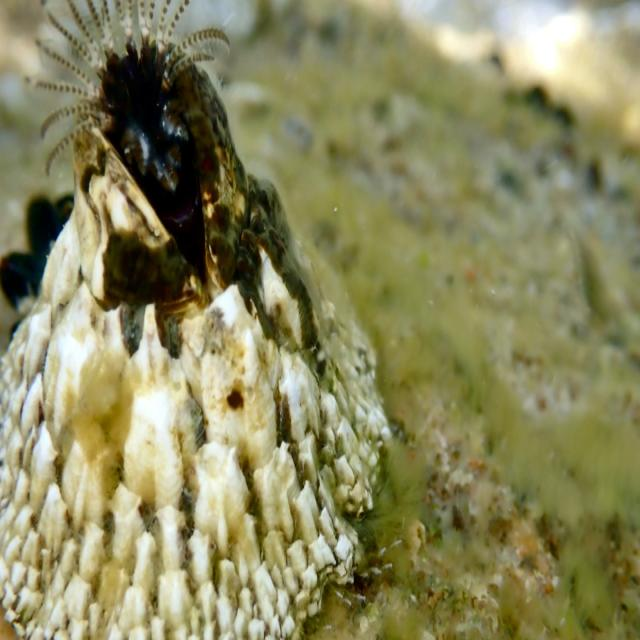barnacles: (0, 0, 389, 634)
